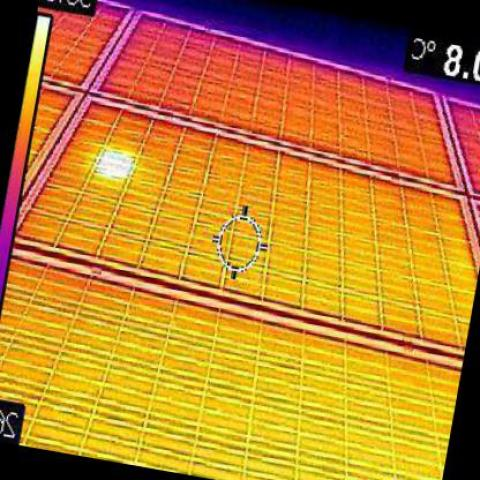fault: (100, 148, 140, 180)
